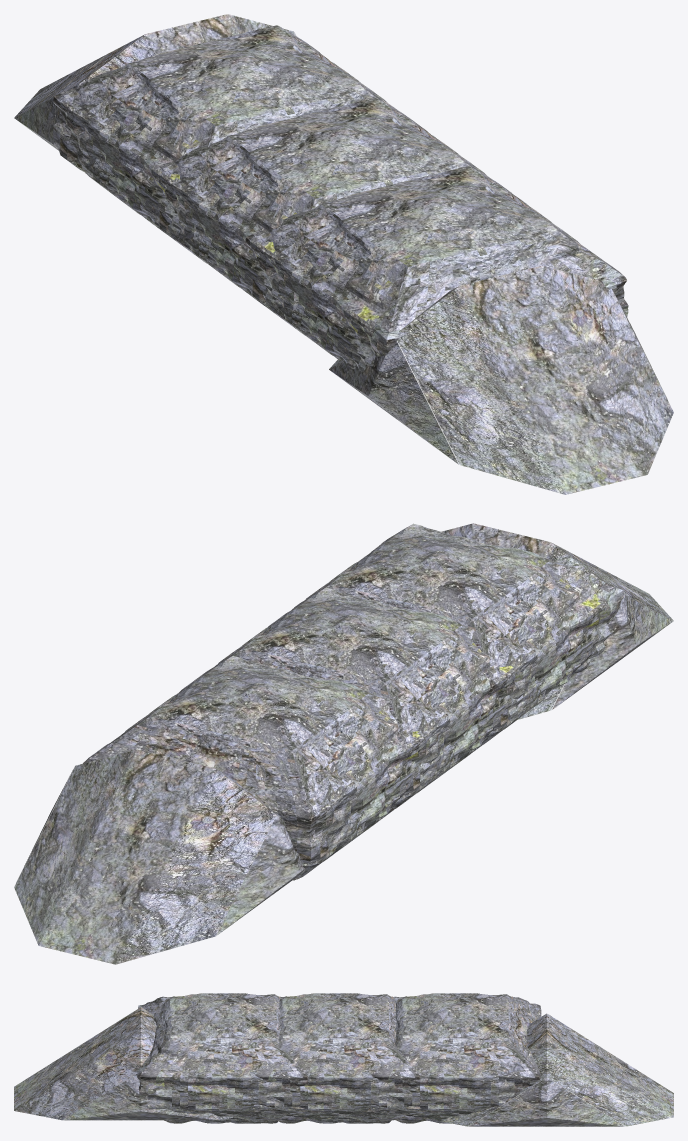
The model's file is RockLine.fbx.
The picture shows the model from 3 angles, top to bottom: view 1: azimuth 30°, elevation 25°; view 2: azimuth 150°, elevation 25°; view 3: azimuth 270°, elevation 25°; orthographic projection. The views are drawn at different scales.
Parts seen in each view (by area): view 1: Sphere.007, rock.005, rock.007, rock.006, Sphere.008; view 2: Sphere.008, rock.007, rock.005, rock.006, Sphere.007; view 3: rock.005, rock.007, rock.006, Sphere.008, Sphere.007.
Part boxes in pixels (x1,y1,x2,y2): Sphere.007: (329,265,673,494); rock.005: (245,166,628,371); rock.007: (53,25,430,263); rock.006: (155,98,526,335); Sphere.008: (14,14,296,150); Sphere.008: (14,749,304,964); rock.007: (83,656,443,880); rock.005: (268,523,623,744); rock.006: (177,587,536,808); Sphere.007: (441,523,673,720); rock.005: (137,993,307,1123); rock.007: (370,993,541,1123); rock.006: (250,993,420,1123); Sphere.008: (440,1013,673,1126); Sphere.007: (14,1007,232,1120).
Bounding box in the file's own units: 6.49 × 3.42 × 21.39.
